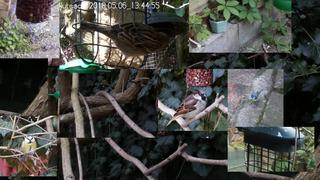blue tit: (20, 134, 37, 162), (249, 89, 264, 108)
sparrow: (79, 20, 169, 62), (165, 89, 208, 127)
